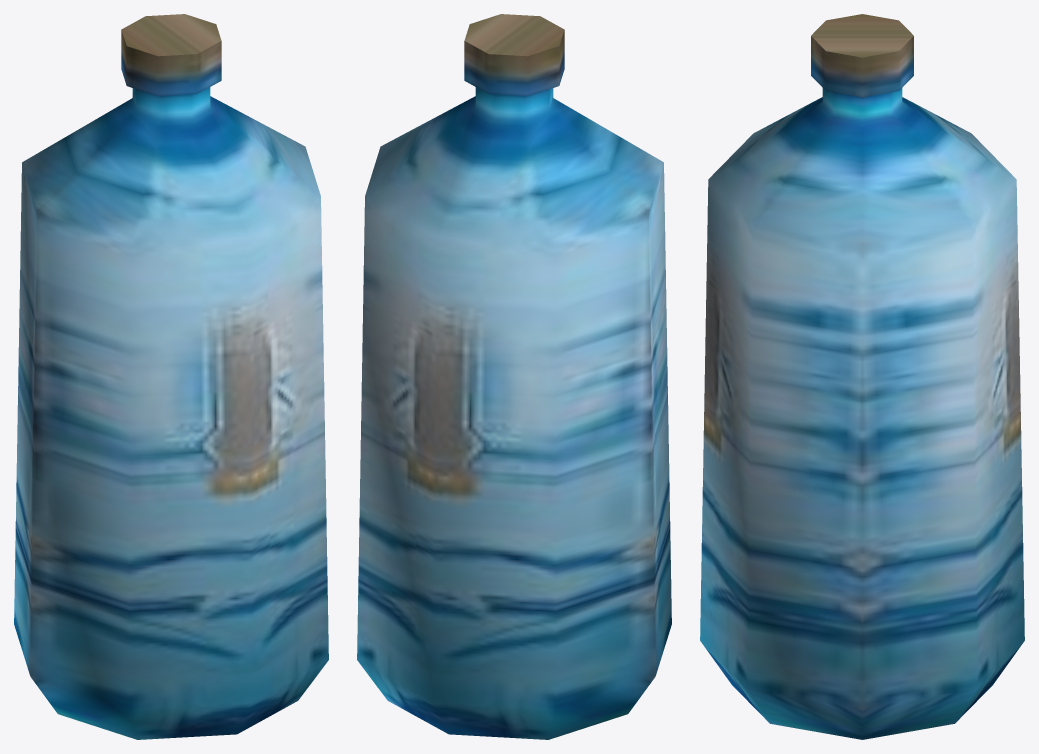
File: Water_01-col.glb
3 views of the same model, side by side, from view 1: azimuth 30°, elevation 25°; view 2: azimuth 150°, elevation 25°; view 3: azimuth 270°, elevation 25° (orthographic).
Visible parts, largest first — view 1: Water_01-col; view 2: Water_01-col; view 3: Water_01-col.
Part boxes in pixels (x1,y1,x2,y2): Water_01-col: [14, 14, 328, 739]; Water_01-col: [357, 14, 671, 739]; Water_01-col: [700, 14, 1024, 739].
Bounding box in the file's own units: 0.1576 × 0.3473 × 0.1576.
Materials: 1 (1 with a texture image).
